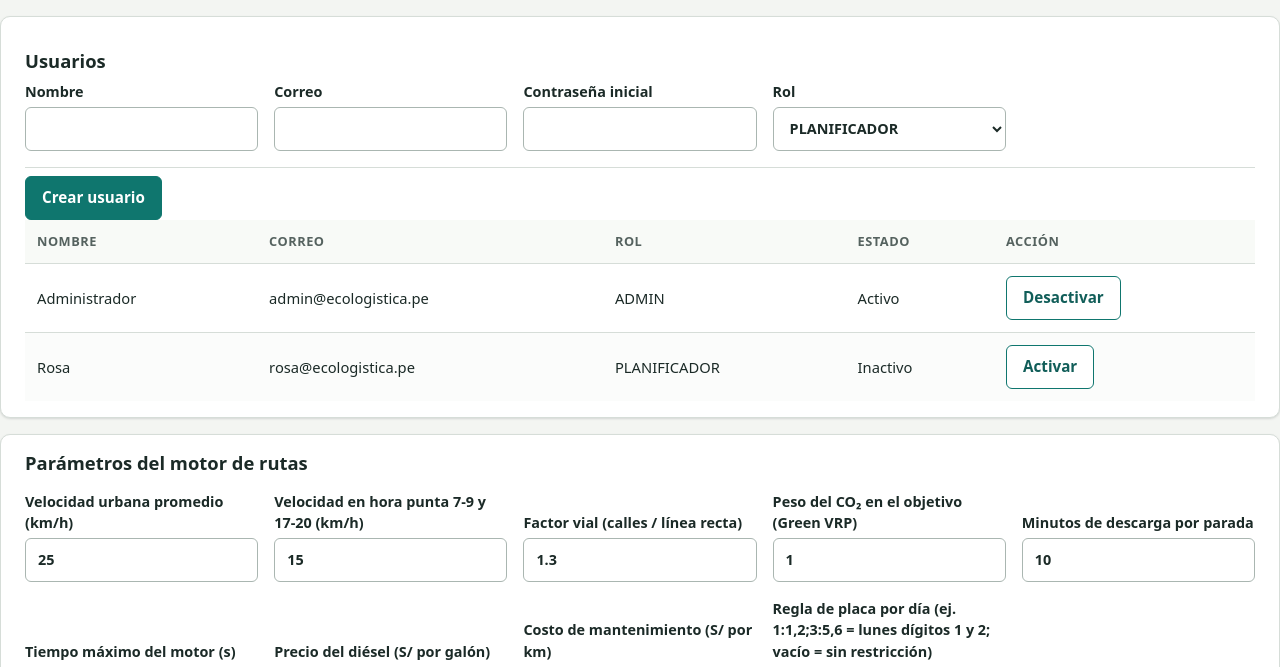
Test case: Administración (RF-012) › guarda los parámetros del motor
Replace the text in the number field labelled "Velocidad urbana promedio (km/h)" with "30": (142, 560) [25,538,258,582]
(page scrolled)
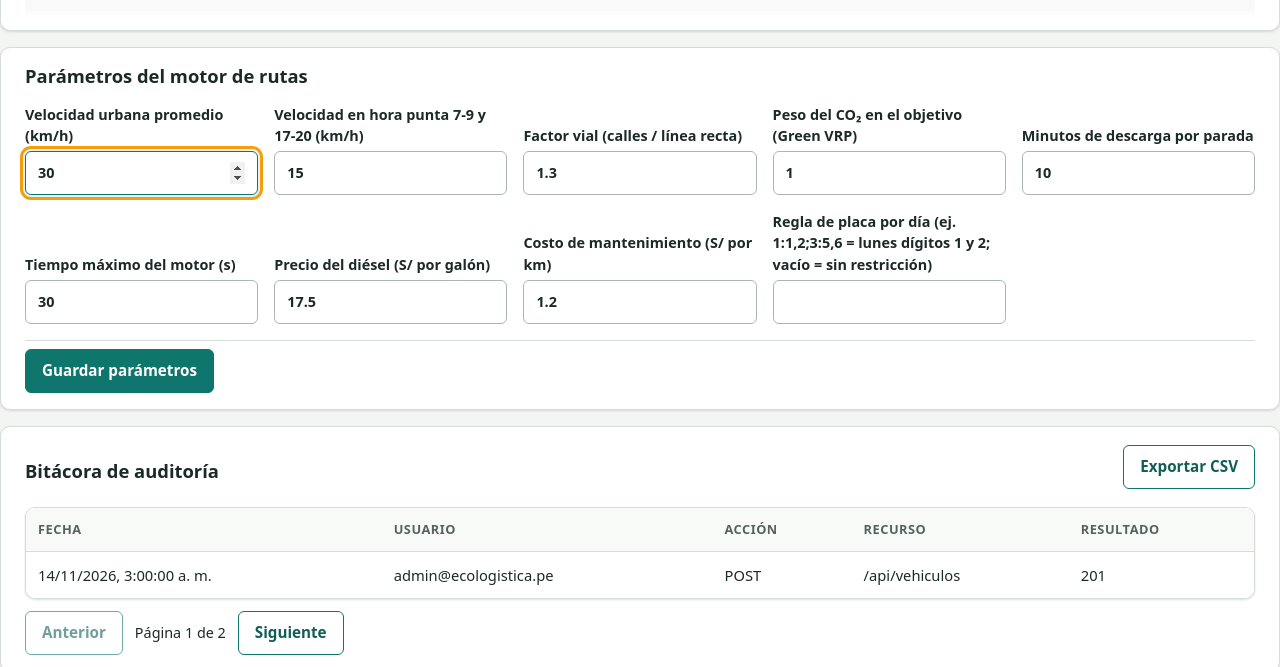
Click the button "Guardar parámetros": (120, 371) [25,349,214,393]
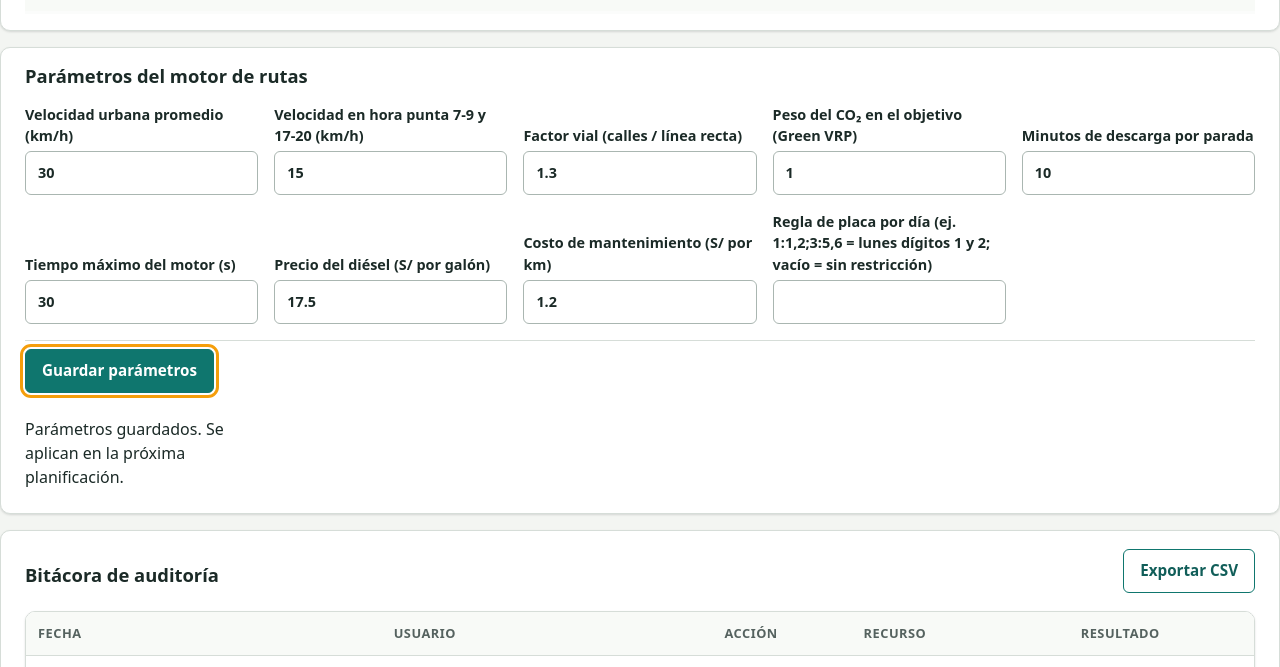
Check: the message shows "Parámetros guardados", box [25,418,224,488]
